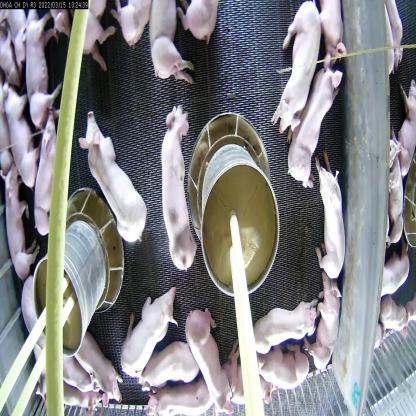Pig: (82, 115, 146, 253), (154, 105, 198, 258), (269, 1, 315, 136), (295, 65, 343, 182), (9, 13, 59, 123), (113, 294, 167, 380), (312, 167, 346, 289), (137, 1, 183, 90), (250, 292, 310, 360), (184, 312, 224, 410), (2, 76, 36, 188), (132, 329, 194, 390), (30, 121, 64, 231), (313, 271, 339, 389), (5, 174, 31, 282), (260, 356, 312, 404), (228, 346, 265, 412), (160, 384, 224, 416)
